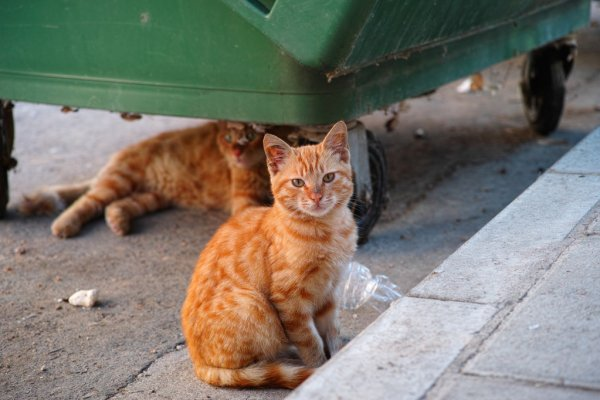cat: (195, 128, 369, 360), (38, 103, 299, 239)
